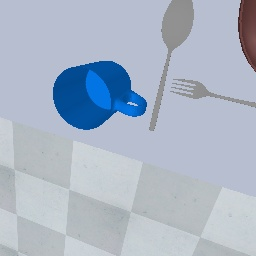Fork: (172, 75, 254, 110)
Mug: (50, 57, 147, 130)
Spoon: (145, 17, 197, 131)
